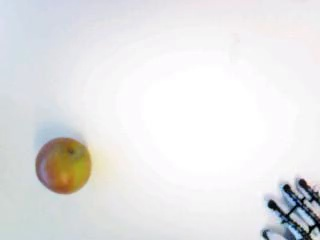apple: (32, 135, 92, 195)
hand: (260, 175, 320, 240)
